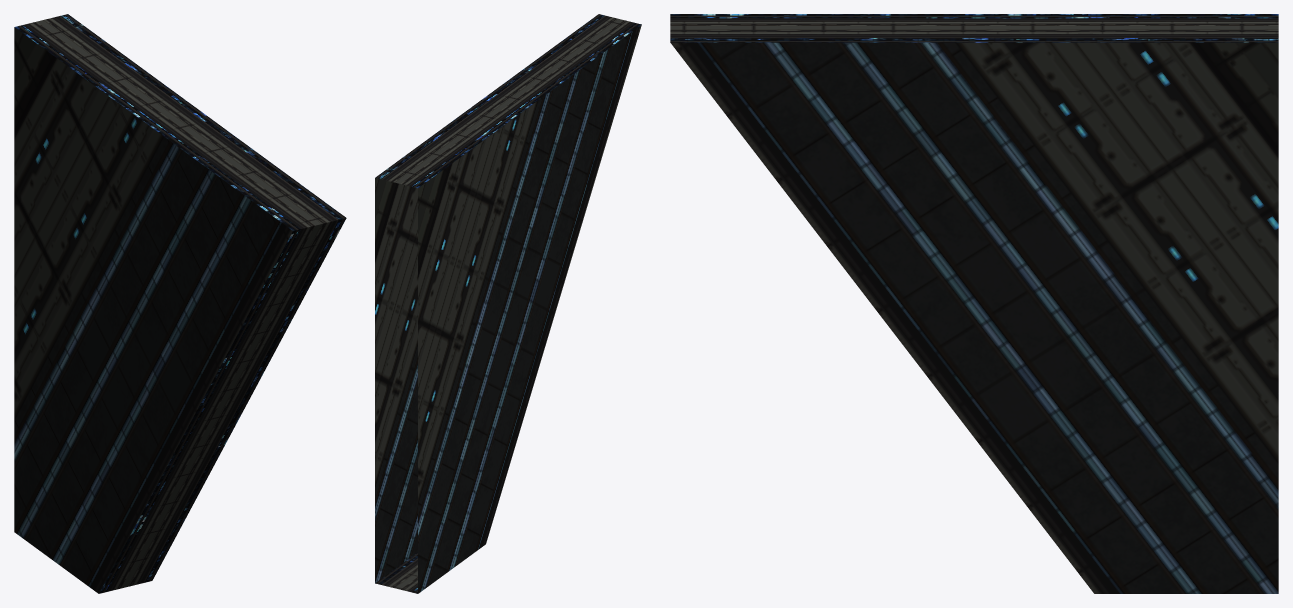
File: Ultra_Addon6.fbx
3 views of the same model, side by side, from view 1: azimuth 30°, elevation 25°; view 2: azimuth 150°, elevation 25°; view 3: azimuth 270°, elevation 25° (orthographic). The views are drawn at different scales.
Parts seen in each view (by area): view 1: polySurface199; view 2: polySurface199; view 3: polySurface199.
Part boxes in pixels (<box>): polySurface199: <box>14,14,346,593</box>; polySurface199: <box>375,14,641,593</box>; polySurface199: <box>670,14,1278,593</box>.
Bounding box in the file's own units: 1.28 × 11.55 × 11.55.
Materials: 1 (1 with a texture image).
